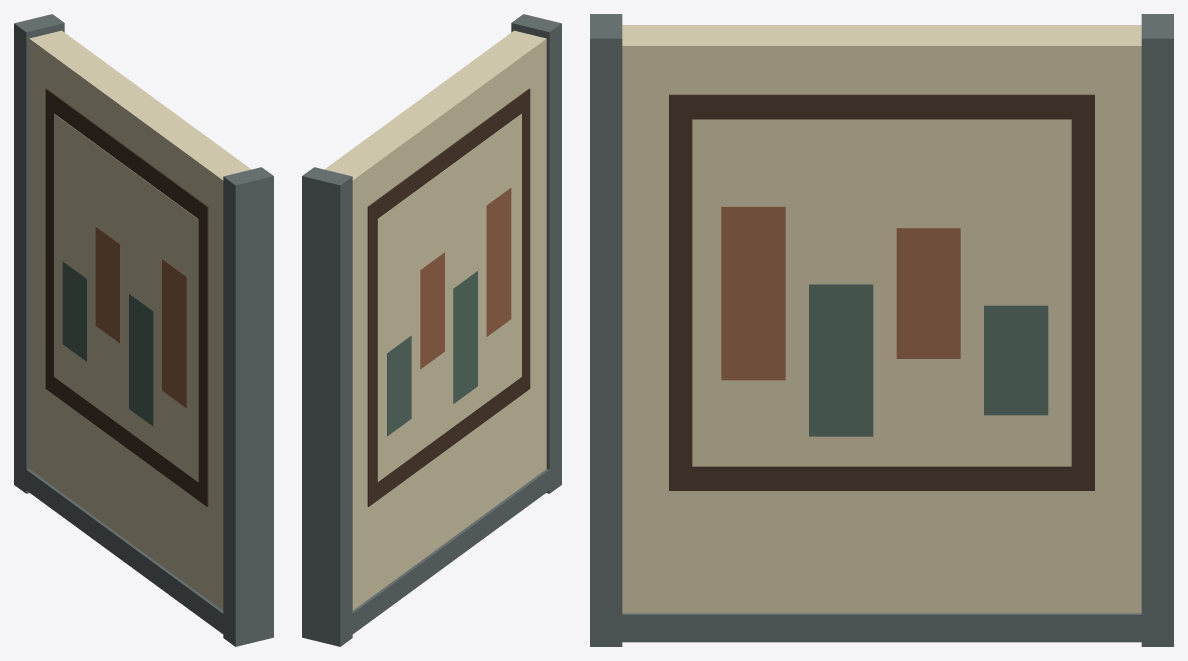
Rendered from LP_ArtGallery_PartitionWest.fbx.
The picture shows the model from 3 angles, left to right: view 1: azimuth 30°, elevation 25°; view 2: azimuth 150°, elevation 25°; view 3: azimuth 270°, elevation 25°; orthographic projection. The views are drawn at different scales.
Visible parts, largest first — view 1: WarmIvory, M_Museum_BrushedMetal, Canvas_1, Gallery picture frame_1, Geometric composition_7, Geometric composition_6, Geometric composition_5, Geometric composition_4; view 2: WarmIvory, M_Museum_BrushedMetal, Canvas_1, Gallery picture frame_1, Geometric composition_7, Geometric composition_6, Geometric composition_5, Geometric composition_4; view 3: WarmIvory, Canvas, M_Museum_BrushedMetal, Gallery picture frame, Geometric composition_3, Geometric composition_2, Geometric composition_1, Geometric composition.
Part boxes in pixels (bbox=[...]): WarmIvory: bbox=[29, 30, 251, 610]; M_Museum_BrushedMetal: bbox=[14, 14, 273, 646]; Canvas_1: bbox=[54, 113, 198, 481]; Gallery picture frame_1: bbox=[45, 88, 208, 506]; Geometric composition_7: bbox=[162, 259, 186, 407]; Geometric composition_6: bbox=[129, 293, 153, 426]; Geometric composition_5: bbox=[95, 226, 120, 343]; Geometric composition_4: bbox=[62, 261, 87, 361]; WarmIvory: bbox=[324, 30, 546, 610]; M_Museum_BrushedMetal: bbox=[302, 14, 561, 646]; Canvas_1: bbox=[377, 113, 521, 481]; Gallery picture frame_1: bbox=[367, 88, 530, 506]; Geometric composition_7: bbox=[486, 188, 511, 336]; Geometric composition_6: bbox=[453, 271, 477, 403]; Geometric composition_5: bbox=[420, 252, 444, 369]; Geometric composition_4: bbox=[387, 335, 411, 436]; WarmIvory: bbox=[622, 25, 1141, 613]; Canvas: bbox=[692, 119, 1071, 466]; M_Museum_BrushedMetal: bbox=[590, 14, 1173, 646]; Gallery picture frame: bbox=[669, 94, 1094, 490]; Geometric composition_3: bbox=[721, 206, 785, 380]; Geometric composition_2: bbox=[809, 284, 873, 436]; Geometric composition_1: bbox=[896, 228, 960, 358]; Geometric composition: bbox=[984, 305, 1048, 415].
Bounding box in the file's own units: 20 × 230 × 200.
